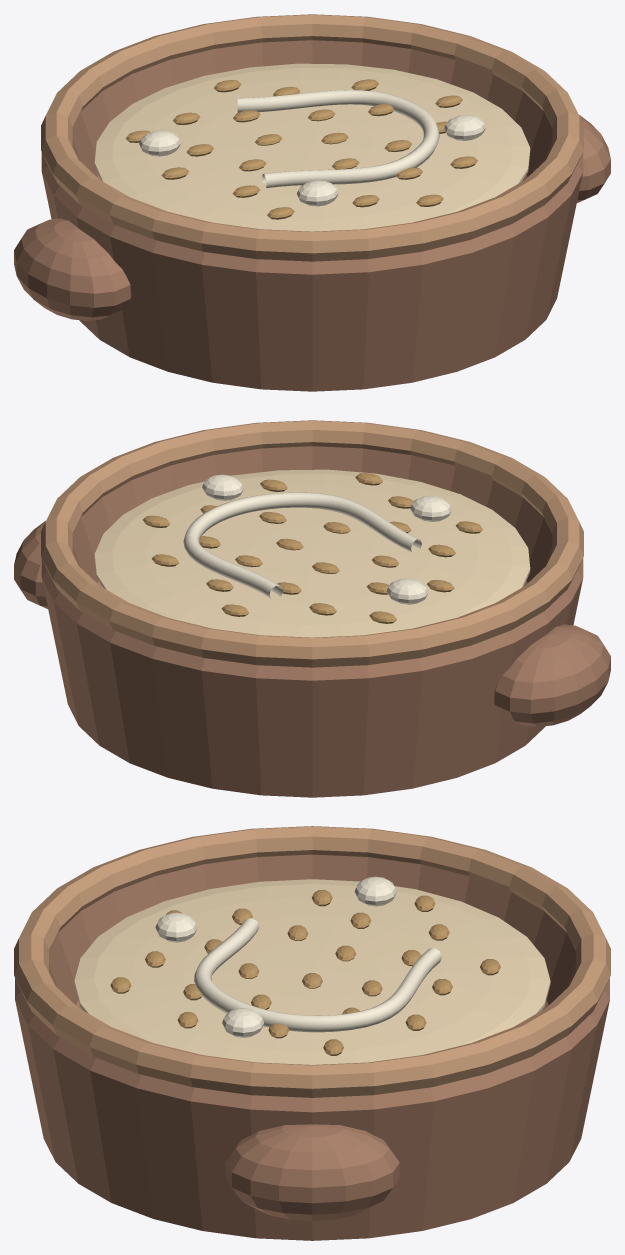
File: coconut_millet_simmer.glb
3 views of the same model, one above another, from view 1: azimuth 30°, elevation 25°; view 2: azimuth 150°, elevation 25°; view 3: azimuth 270°, elevation 25° (orthographic). The views are drawn at different scales.
Visible parts, largest first — view 1: round_clay_cooking_pot, hot_millet_surface, clay_pot_rolled_rim, pot_ear_handle_-1, coconut_milk_swirl_in_pot, pot_ear_handle_1, coconut_milk_bubble_2, coconut_milk_bubble_0, coconut_milk_bubble_1; view 2: round_clay_cooking_pot, hot_millet_surface, clay_pot_rolled_rim, pot_ear_handle_-1, coconut_milk_swirl_in_pot, pot_ear_handle_1, coconut_milk_bubble_1, coconut_milk_bubble_0, coconut_milk_bubble_2; view 3: round_clay_cooking_pot, hot_millet_surface, clay_pot_rolled_rim, pot_ear_handle_1, coconut_milk_swirl_in_pot, coconut_milk_bubble_0, coconut_milk_bubble_1, coconut_milk_bubble_2.
Boxes of the visible parts, x1,y1,x2,y2 form: round_clay_cooking_pot: (41,40,583,391); hot_millet_surface: (94,63,530,231); clay_pot_rolled_rim: (41,14,583,261); pot_ear_handle_-1: (14,218,131,320); coconut_milk_swirl_in_pot: (237,90,439,188); pot_ear_handle_1: (577,115,610,202); coconut_milk_bubble_2: (297,180,338,206); coconut_milk_bubble_0: (139,130,180,156); coconut_milk_bubble_1: (444,115,485,140); round_clay_cooking_pot: (41,446,583,797); hot_millet_surface: (94,469,530,637); clay_pot_rolled_rim: (41,420,583,667); pot_ear_handle_-1: (493,624,610,726); coconut_milk_swirl_in_pot: (183,492,421,598); pot_ear_handle_1: (14,521,47,608); coconut_milk_bubble_1: (202,474,243,500); coconut_milk_bubble_0: (386,578,428,604); coconut_milk_bubble_2: (410,495,451,521); round_clay_cooking_pot: (15,854,609,1240); hot_millet_surface: (74,879,550,1064); clay_pot_rolled_rim: (14,826,610,1097); pot_ear_handle_1: (225,1124,399,1220); coconut_milk_swirl_in_pot: (194,918,441,1032); coconut_milk_bubble_0: (354,876,396,906); coconut_milk_bubble_1: (222,1008,263,1037); coconut_milk_bubble_2: (155,912,197,942).
Size of the model in its own units: 0.8219 by 0.263 by 0.6803.
